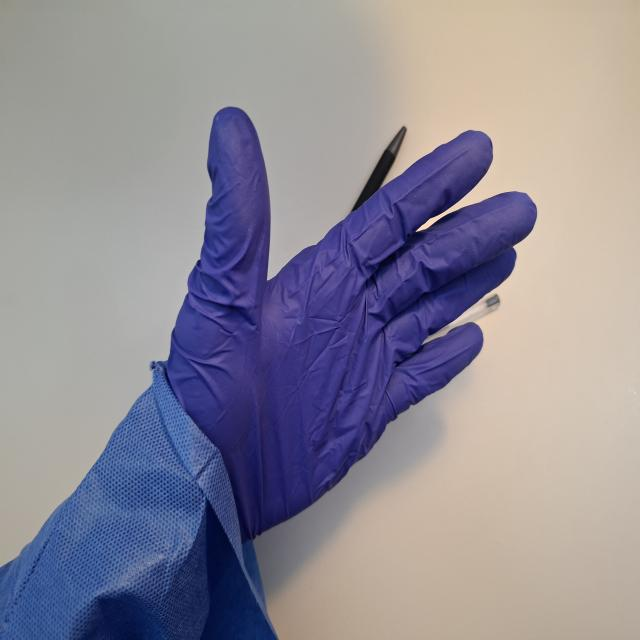glove_on: (160, 101, 540, 542)
